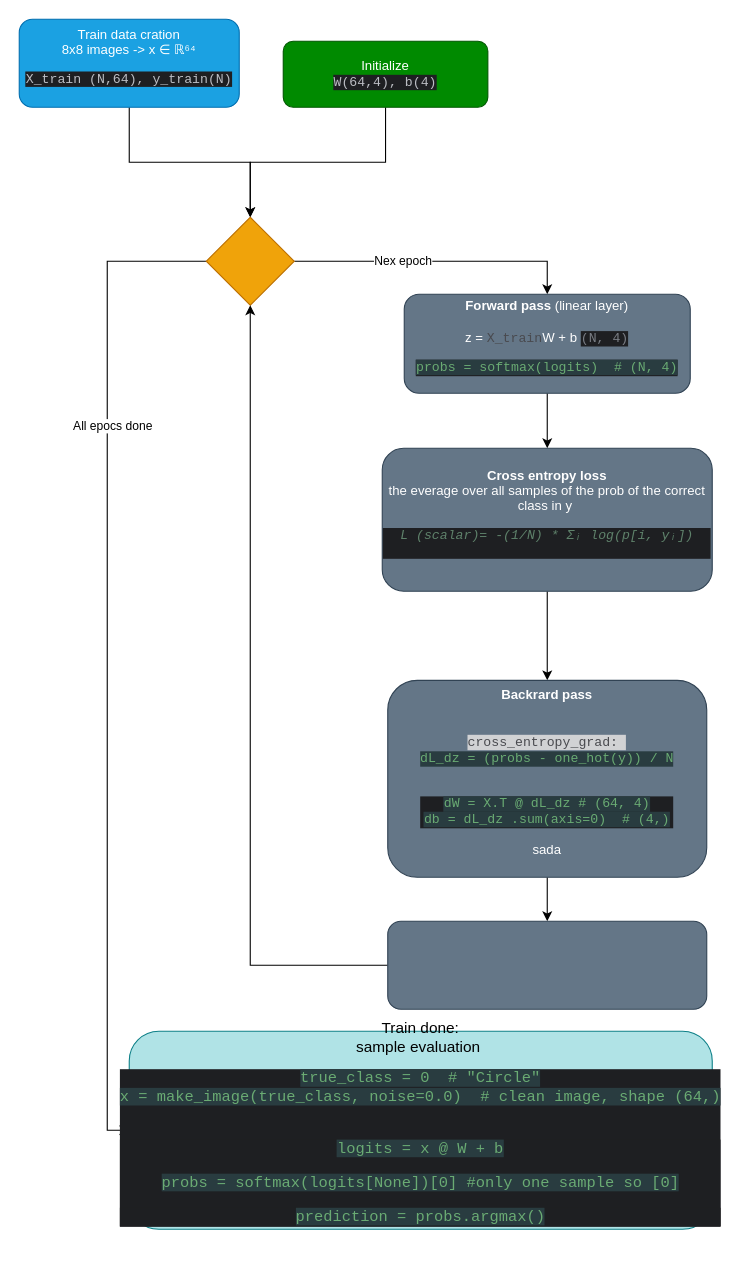
This 740x1261 diagram has some shape labels left out. Each missing label, with the centre of its shape:
"For 200 epochs" goes at (249,260).
"Update W -= eta * dW b -= eta * db" goes at (547,964).
